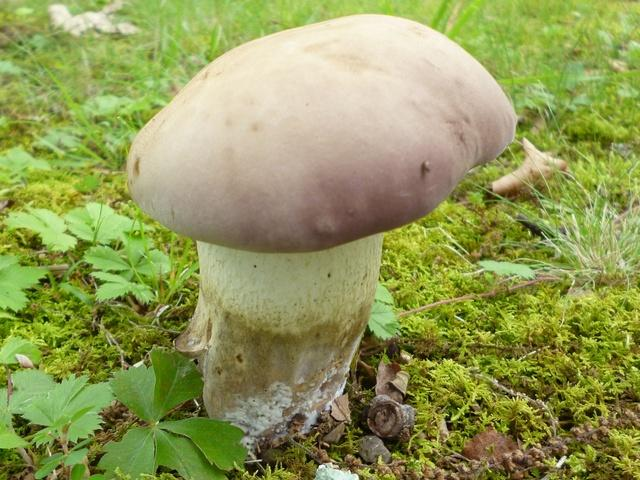poisonous_mushroom: (124, 12, 518, 456)
